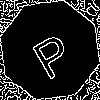P: (25, 25, 77, 81)
